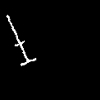double_crochet: (7, 15, 35, 65)
